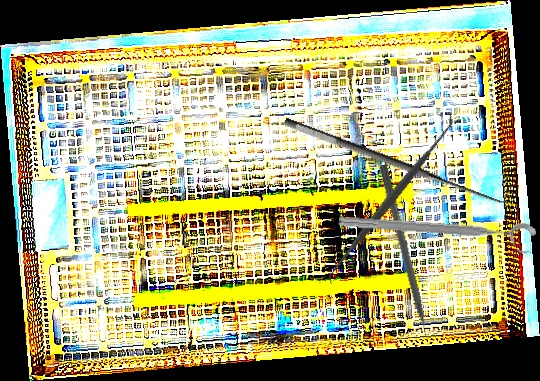Fixation Ring: (337, 210, 537, 257)
Hook Surgical: (282, 99, 513, 214)
Pusher: (376, 163, 434, 350)
Spatula Surgical: (316, 110, 466, 287)
